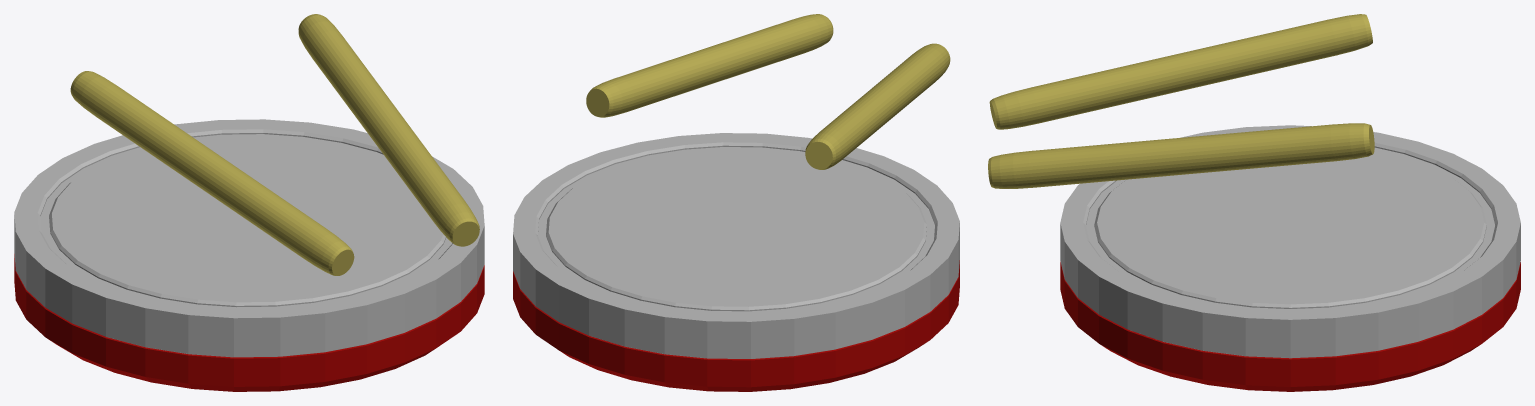
The model's file is taiko.glb.
3 renders of one model, left to right at view 1: azimuth 30°, elevation 25°; view 2: azimuth 150°, elevation 25°; view 3: azimuth 270°, elevation 25°, orthographic. The views are drawn at different scales.
Visible parts, largest first — view 1: Cylinder.001, Cylinder, Cylinder.003, Cylinder.002; view 2: Cylinder.001, Cylinder, Cylinder.002, Cylinder.003; view 3: Cylinder.001, Cylinder, Cylinder.003, Cylinder.002.
Part boxes in pixels (x1,y1,x2,y2): Cylinder.001: (14,119,484,357); Cylinder: (14,254,484,391); Cylinder.003: (70,71,354,275); Cylinder.002: (298,14,479,246); Cylinder.001: (513,133,959,358); Cylinder: (513,260,959,391); Cylinder.002: (586,14,833,117); Cylinder.003: (805,43,950,169); Cylinder.001: (1060,125,1520,358); Cylinder: (1060,262,1520,391); Cylinder.003: (989,14,1372,129); Cylinder.002: (988,123,1374,188).
Bounding box in the file's own units: 2 × 1.08 × 2.31.
